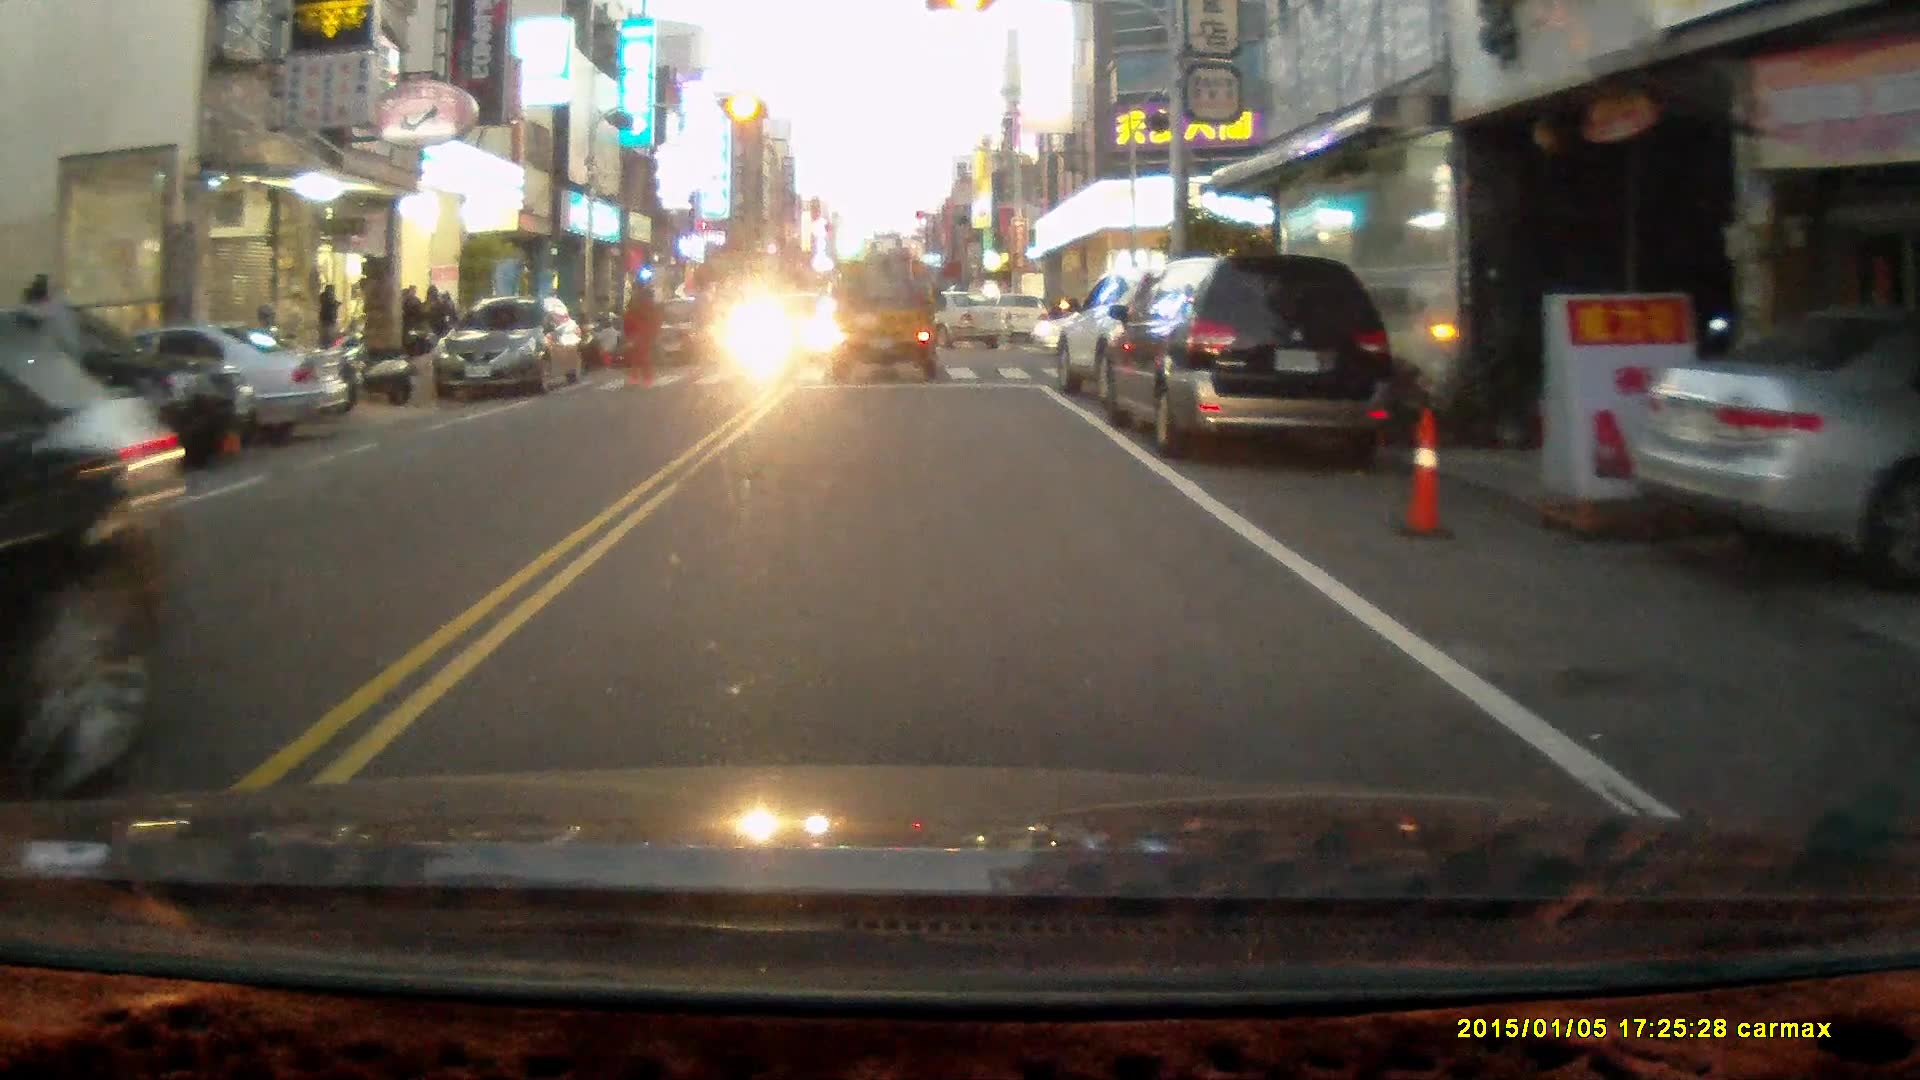pedestrian: (17, 269, 82, 460), (619, 281, 651, 387), (314, 281, 343, 364), (593, 319, 620, 374)
vehicle: (1, 346, 182, 823), (1634, 318, 1920, 547), (1096, 251, 1394, 461), (1, 296, 257, 473), (35, 326, 349, 444), (1054, 270, 1262, 420), (820, 236, 946, 386), (442, 301, 588, 402), (878, 294, 1015, 354), (635, 298, 729, 365)
